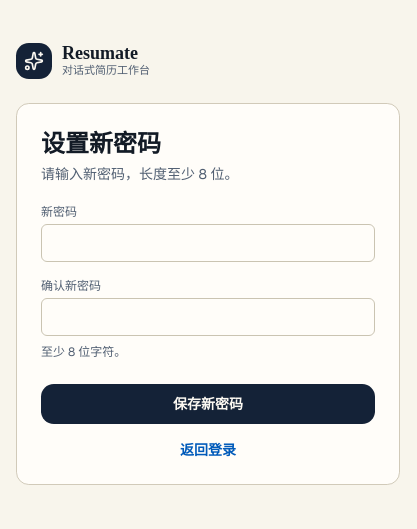
it: ResetPasswordPage › 两次密码不一致在提交前拦截
In the password field labelled "新密码": {"x": 208, "y": 243} [41,224,375,262], type "new-password-2"
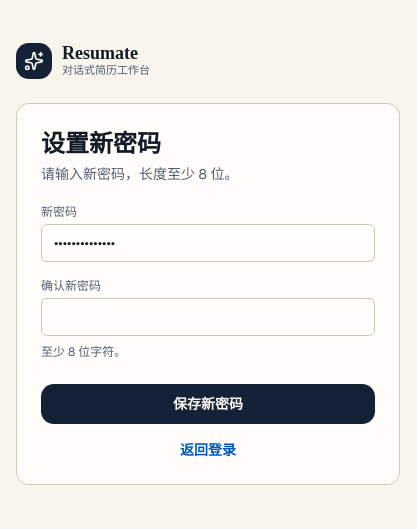
In the password field labelled "确认新密码": {"x": 208, "y": 317} [41,298,375,336], type "other-password-3"
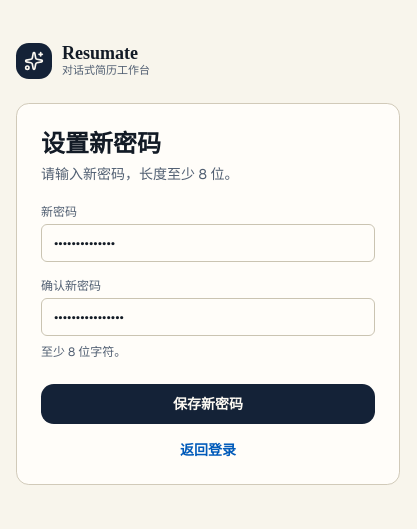
Click the button "保存新密码": {"x": 208, "y": 404} [41,384,375,424]
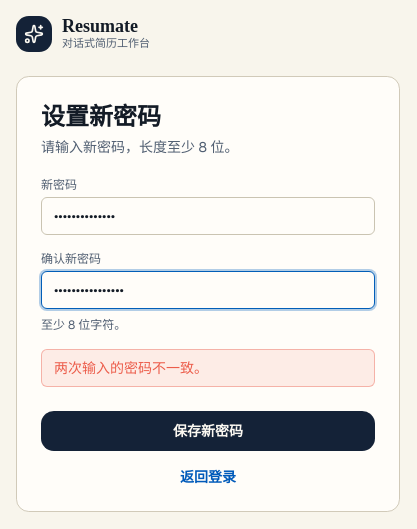
Check: the message reads "两次输入的密码不一致。", box [54,359,208,377]
